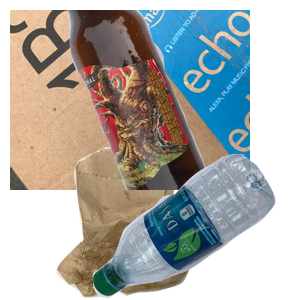cardboard: (10, 10, 250, 190)
glass: (65, 10, 300, 190)
plastic: (90, 154, 300, 300)
trash: (54, 147, 271, 300)
